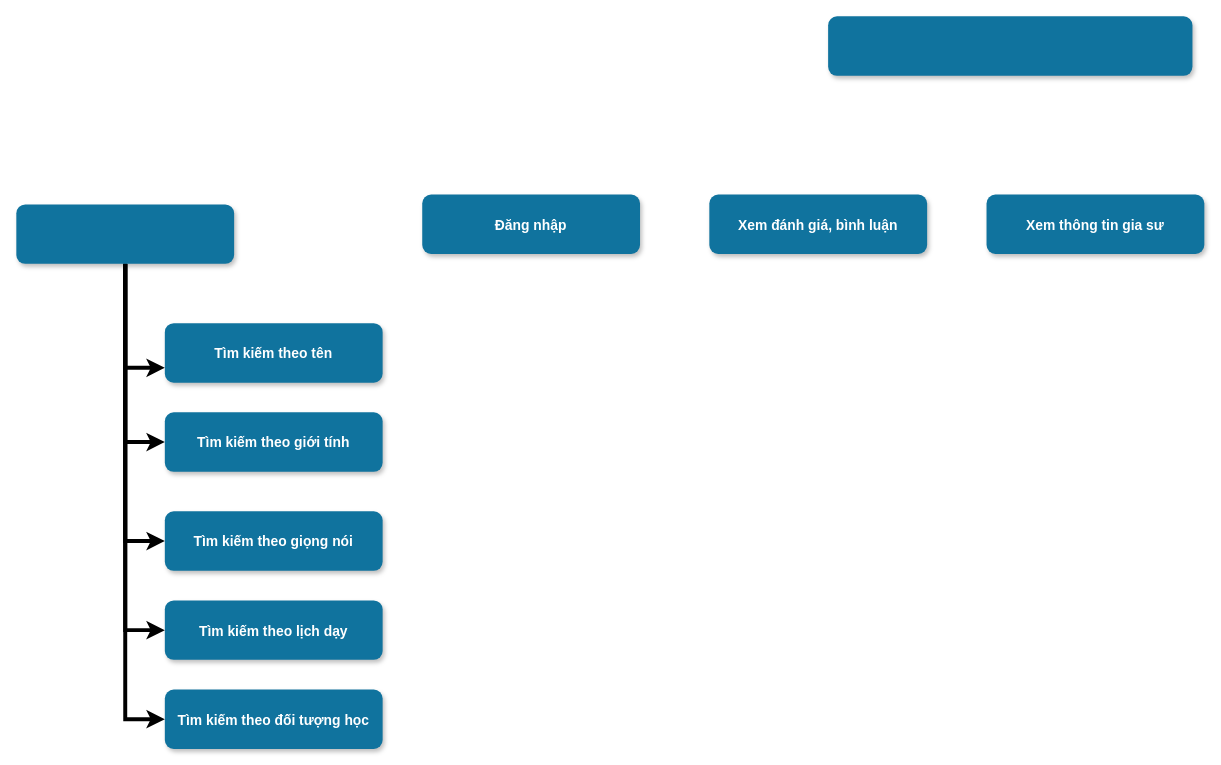
Image size: 1221x765. Some labels were removed from this diagram. The shapes that lost their labels are listed below. From the top down, each one's centre as x and y in pixels, then its label:
At point 1011,47: "HỆ THỐNG CỘNG ĐỒNG GIA SƯ".
At point 126,235: "Tìm kiếm khoá học".
